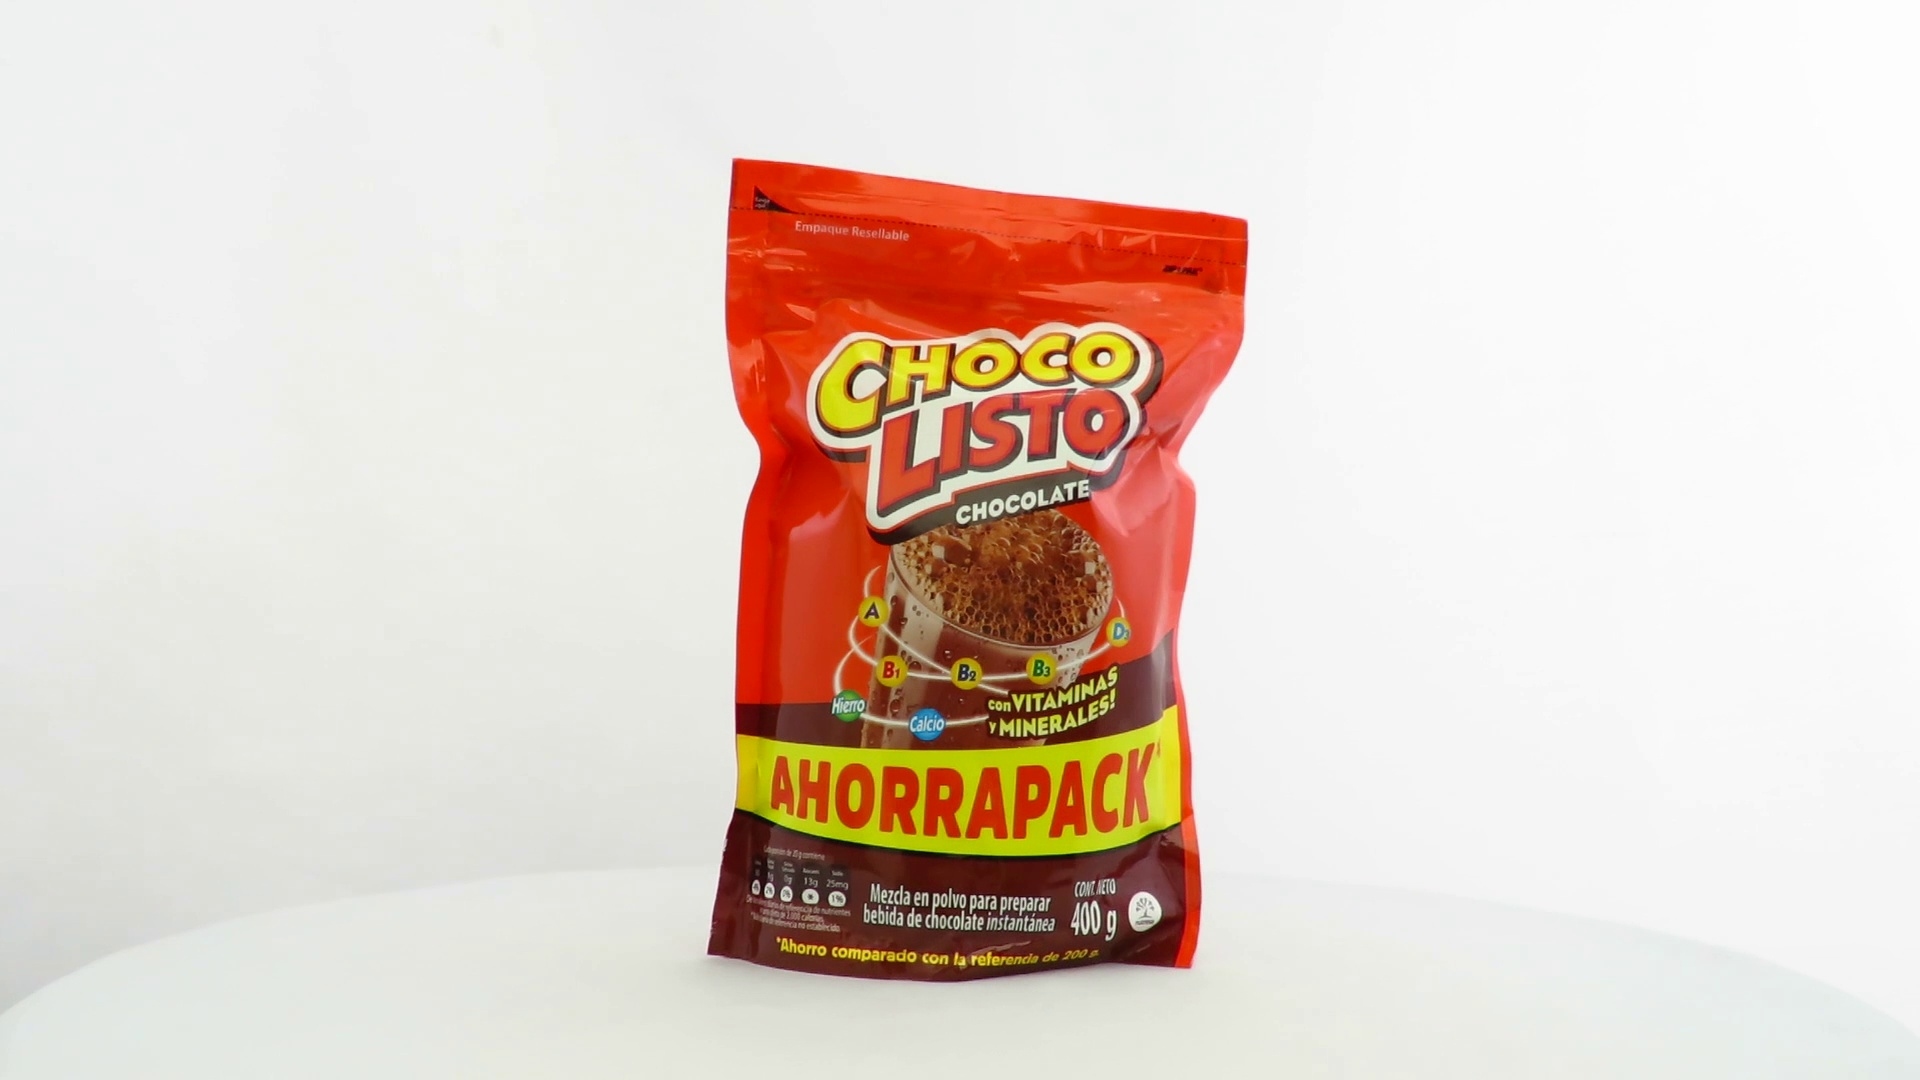COL0170103DYP40000: (702, 153, 1254, 989)
